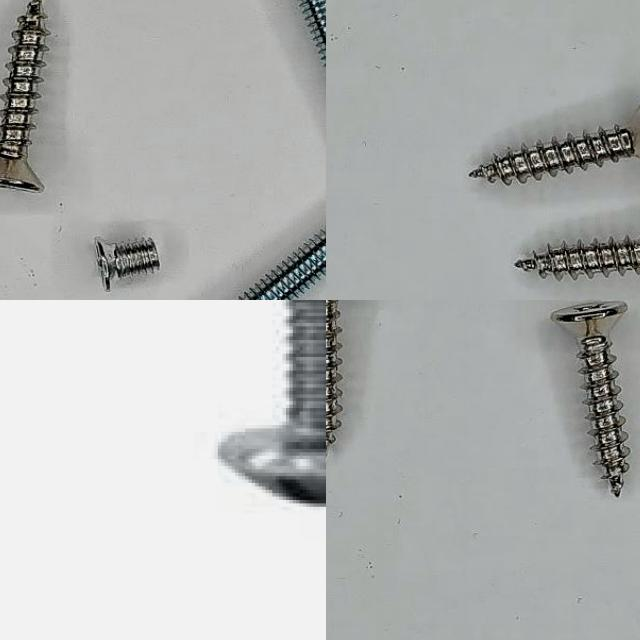Screw: (221, 300, 326, 507), (551, 300, 631, 497), (469, 106, 640, 185), (0, 0, 49, 193), (515, 237, 640, 281), (95, 239, 160, 291), (326, 300, 342, 458)
